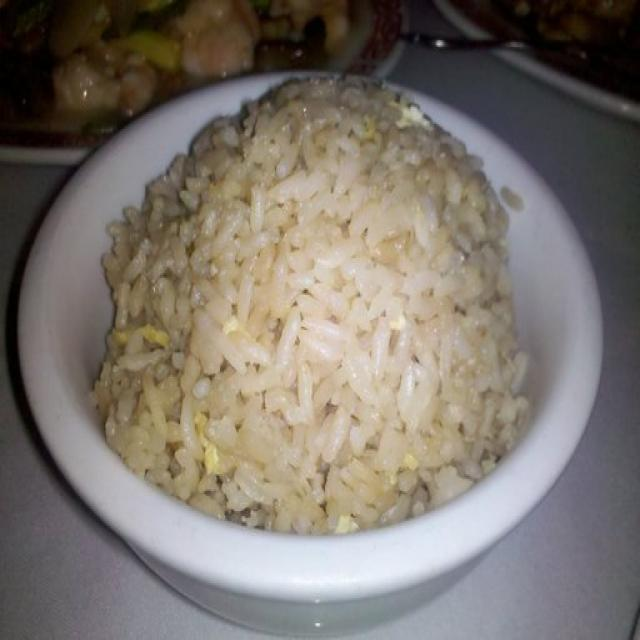rice: (89, 69, 530, 538)
